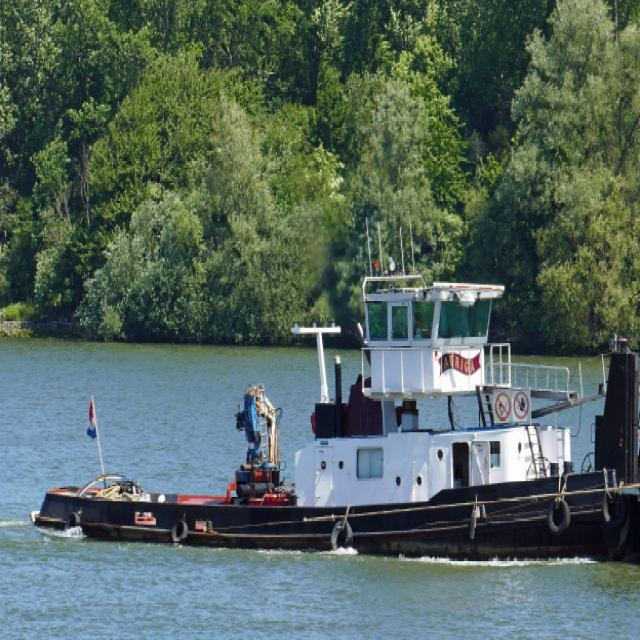tugboat: (25, 200, 640, 573)
